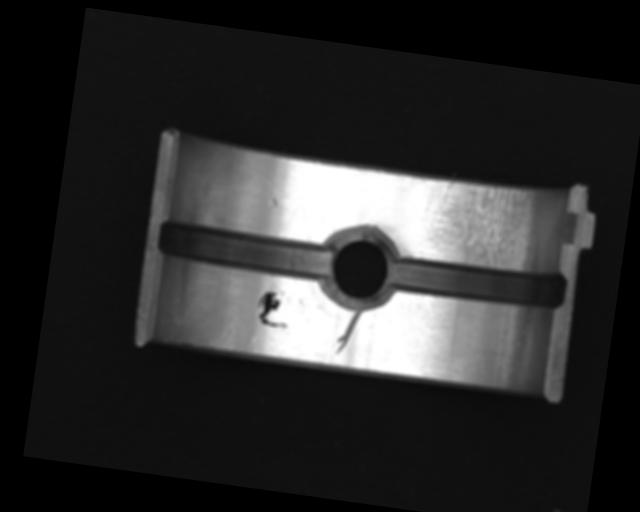blot: (254, 289, 293, 329)
bruise: (266, 197, 280, 209)
gap: (155, 214, 338, 285), (391, 251, 568, 314)
hole: (314, 222, 403, 312)
nick: (333, 305, 362, 358), (417, 293, 436, 315)
scratch: (412, 176, 545, 273)
